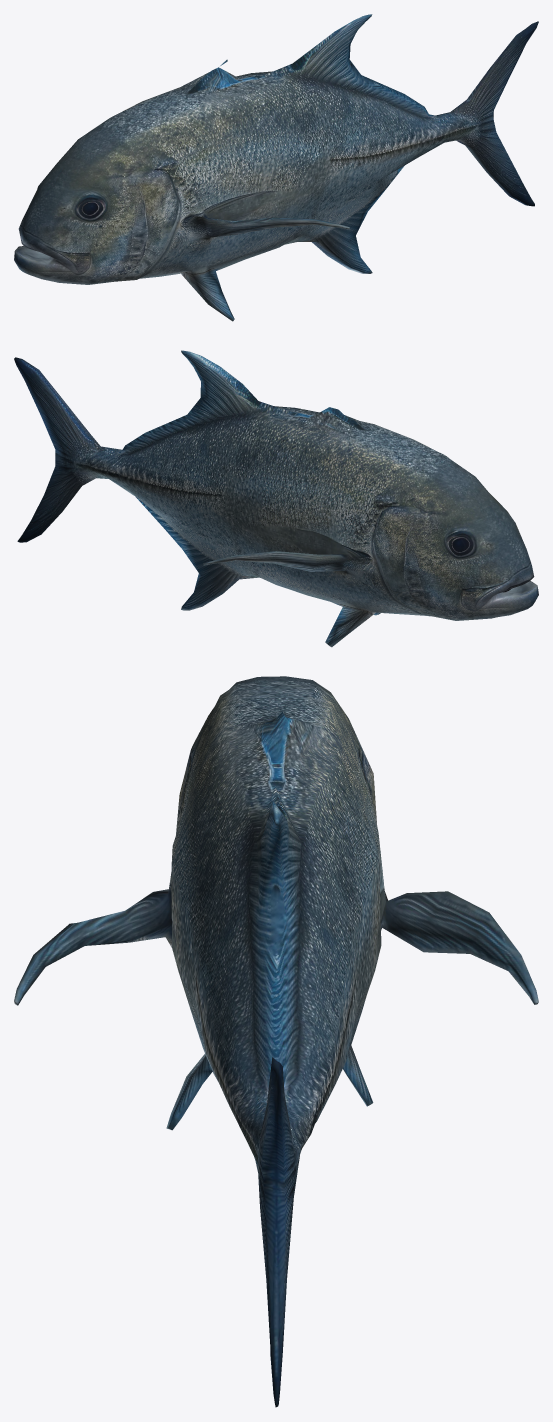
3 views of the same model, one above another, from view 1: azimuth 30°, elevation 25°; view 2: azimuth 150°, elevation 25°; view 3: azimuth 270°, elevation 25° (orthographic). The views are drawn at different scales.
Visible parts, largest first — view 1: tripo_node_3482385e; view 2: tripo_node_3482385e; view 3: tripo_node_3482385e.
Boxes of the visible parts, bbox=[...] form: tripo_node_3482385e: bbox=[14, 14, 538, 321]; tripo_node_3482385e: bbox=[14, 350, 538, 647]; tripo_node_3482385e: bbox=[14, 676, 538, 1407].
Bounding box in the file's own units: 96.96 × 46.19 × 44.88.
Materials: 1 (1 with a texture image).
